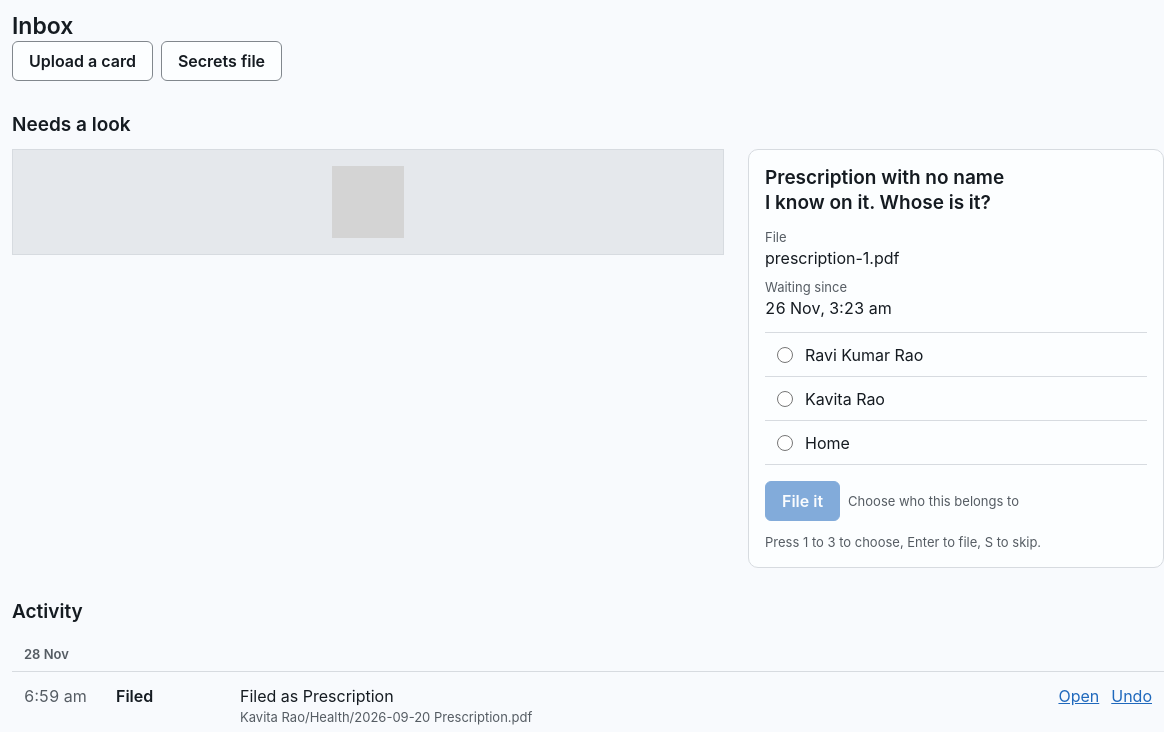
Test case: InboxPage › Undo on the line saying where the file went sends it back and the line goes
Click the radio button labelled "Home": point(785, 443) [777,435,793,451]
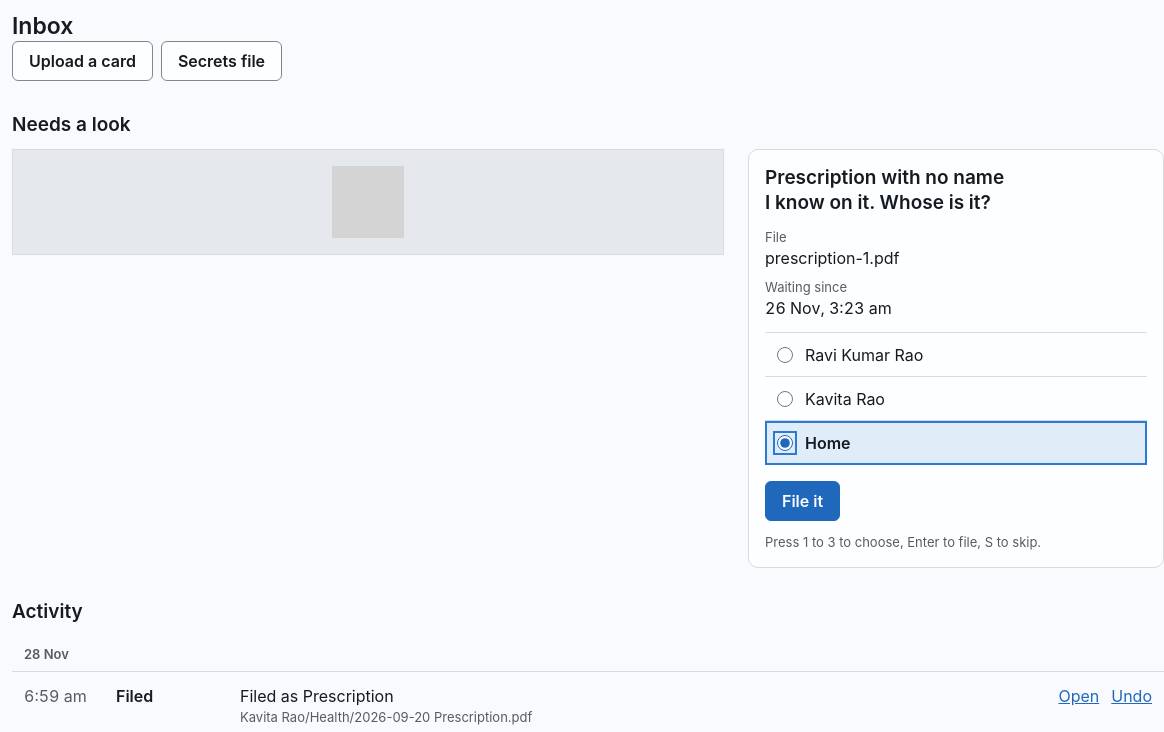
Click the button "File it": point(803, 501) [765,481,840,521]
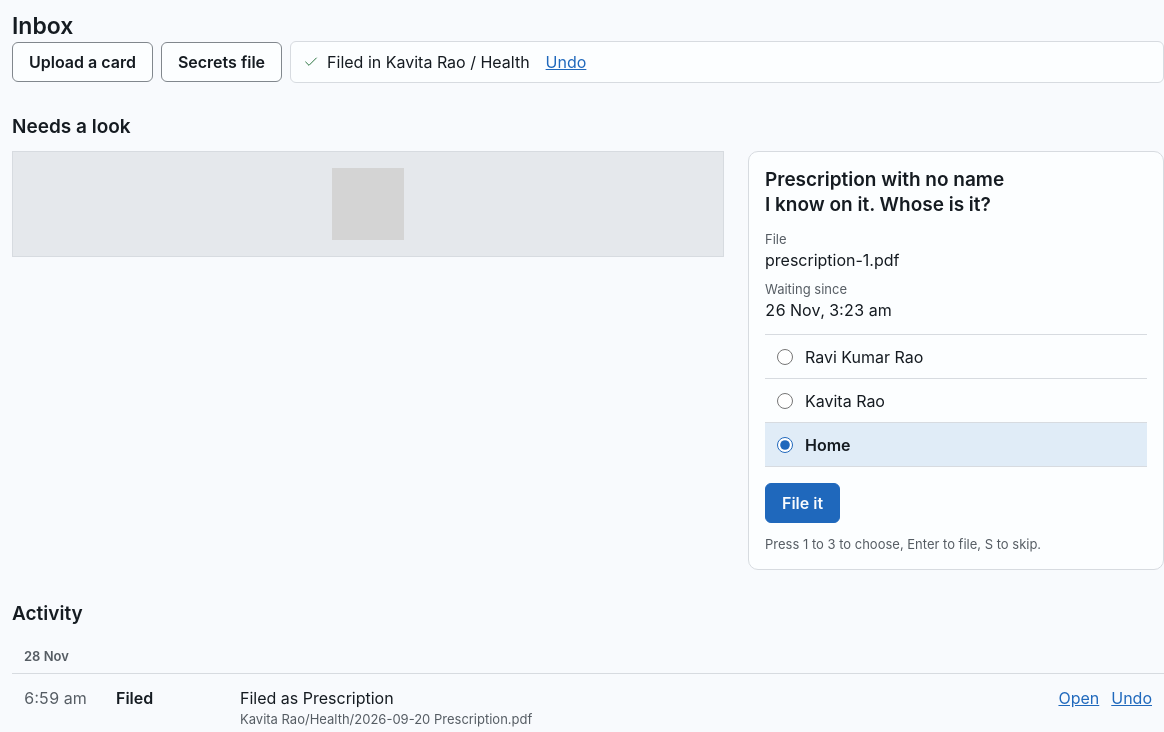
Expected: the text "Filed in Kavita Rao / Health" is shown, [327,50,530,74]
Click the button "Undo" next to "Filed in Kavita Rao / Health": point(566, 62) [546,50,586,74]
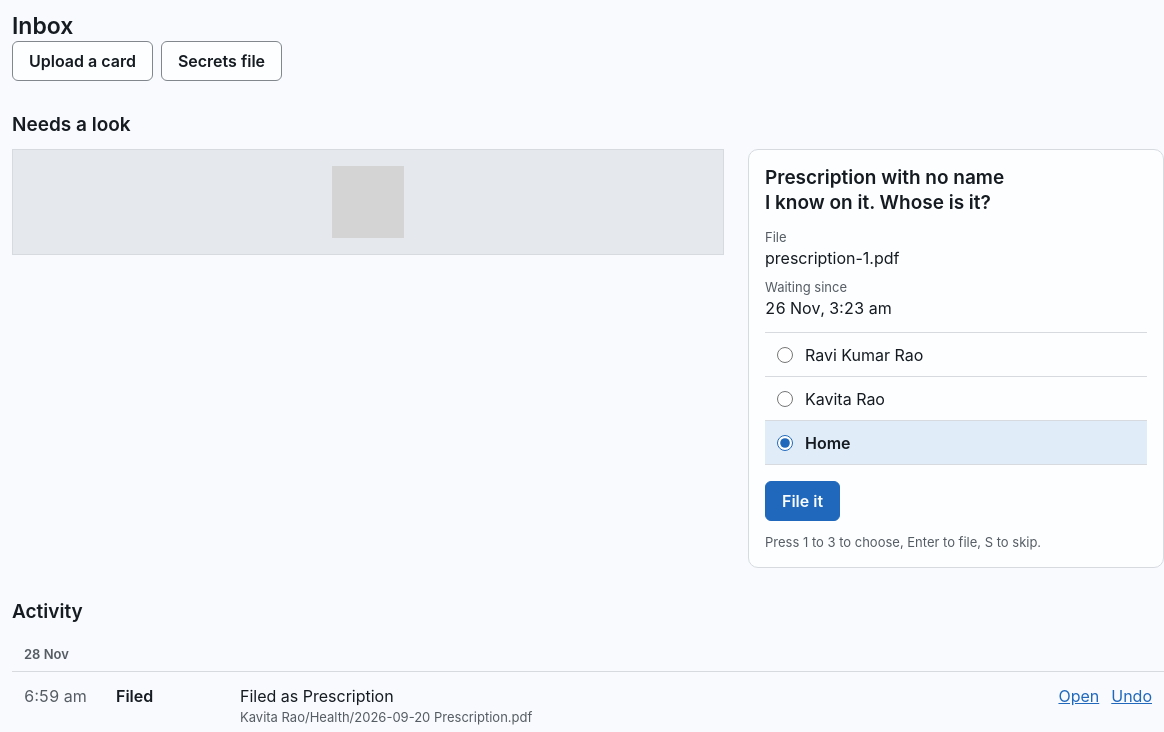
Expected: the text "Filed in Kavita Rao / Health" is gone
